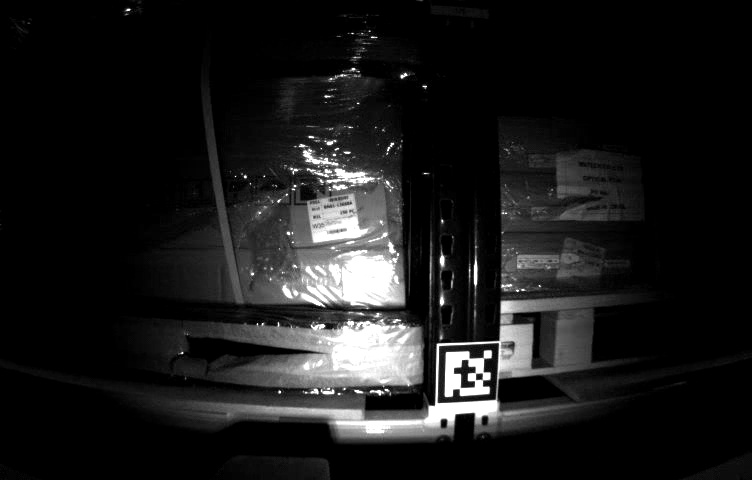True Barcode: (304, 194, 361, 238), (555, 239, 601, 288)
